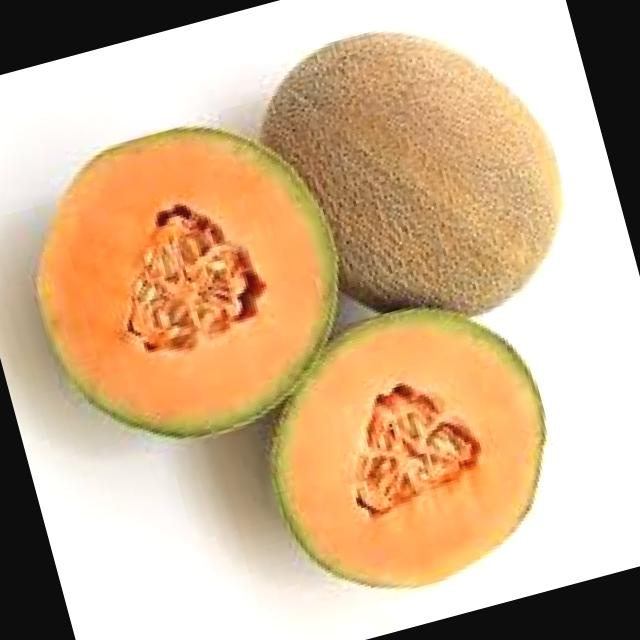cantaloupe: (2, 97, 371, 472), (236, 281, 578, 617), (278, 0, 586, 345)
